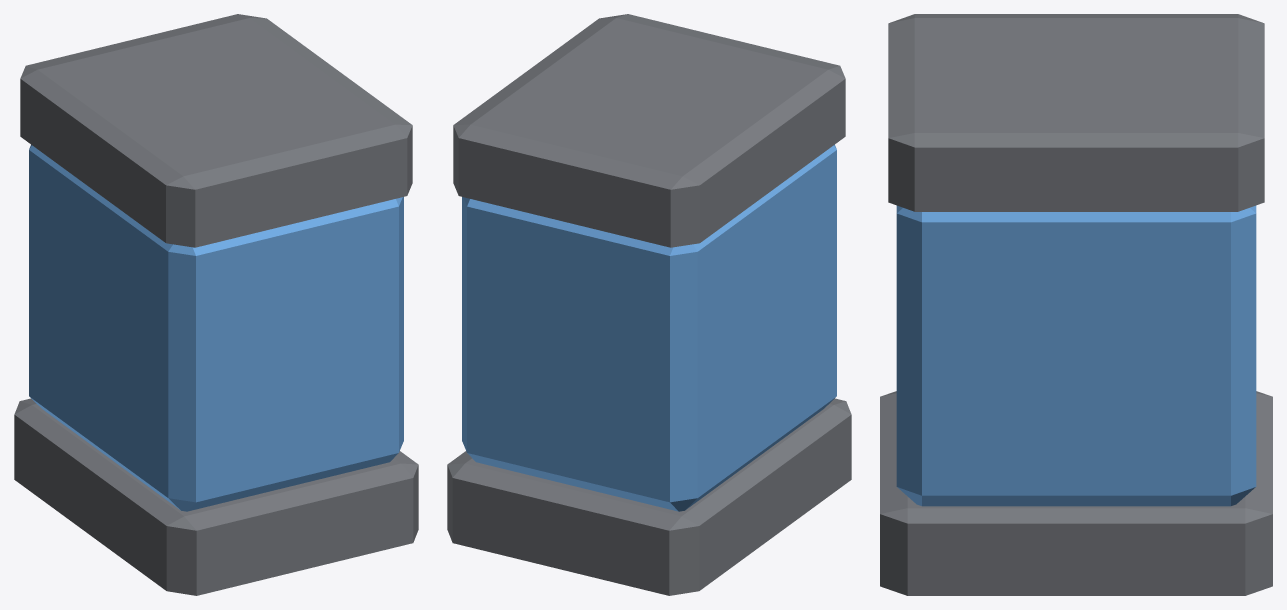
Rendered from b04_oversize_blue_recycling_cart.glb.
The picture shows the model from 3 angles, left to right: view 1: azimuth 30°, elevation 25°; view 2: azimuth 150°, elevation 25°; view 3: azimuth 270°, elevation 25°; orthographic projection. The views are drawn at different scales.
Visible parts, largest first — view 1: b04_oversize_blue_recycling_cart; view 2: b04_oversize_blue_recycling_cart; view 3: b04_oversize_blue_recycling_cart.
Boxes of the visible parts, x1=… form: b04_oversize_blue_recycling_cart: x1=14, y1=14, x2=418, y2=595; b04_oversize_blue_recycling_cart: x1=447, y1=14, x2=851, y2=595; b04_oversize_blue_recycling_cart: x1=880, y1=14, x2=1272, y2=595.
Size of the model in its own units: 0.765 by 1.2 by 0.931.
